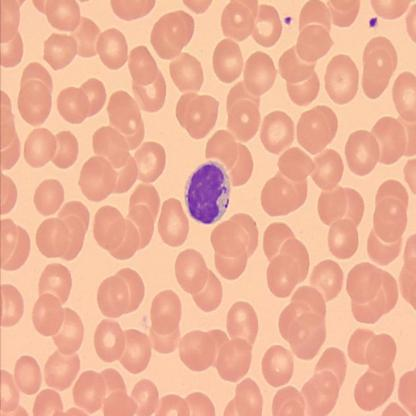Lymphocyte: (183, 160, 232, 226)
